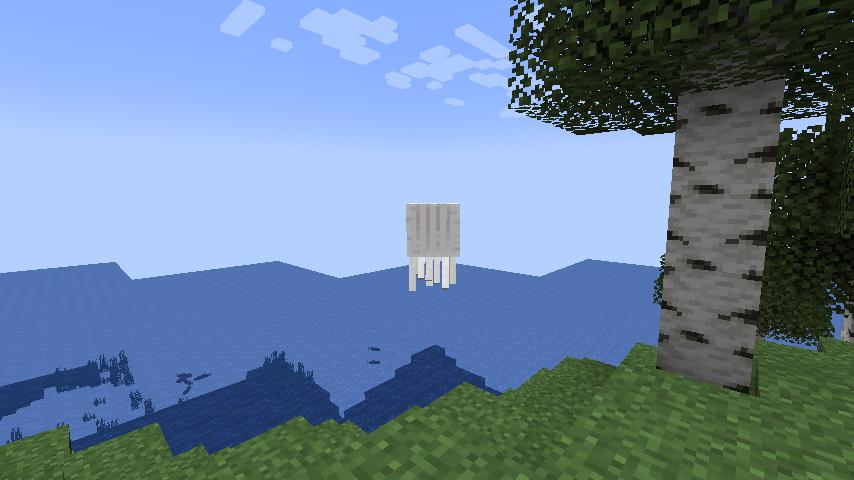ghast: (404, 200, 463, 293)
